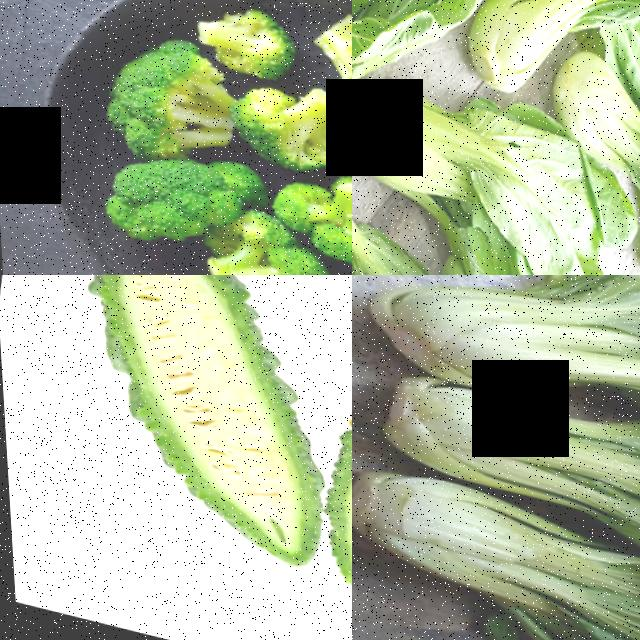bitter gourd: (0, 275, 352, 577)
bok choy: (356, 365, 640, 583), (352, 275, 640, 472), (352, 464, 640, 640), (352, 41, 582, 249), (552, 45, 640, 217), (505, 0, 640, 41)
broccoli: (70, 140, 227, 256), (118, 46, 235, 157), (245, 60, 352, 169), (180, 213, 332, 275), (183, 0, 294, 75), (271, 157, 352, 257), (295, 0, 352, 94)
